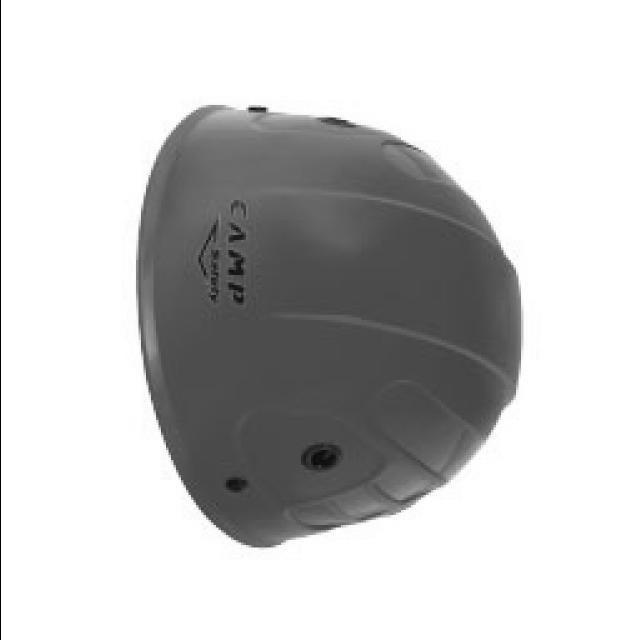safety_helmet: (132, 105, 520, 550)
